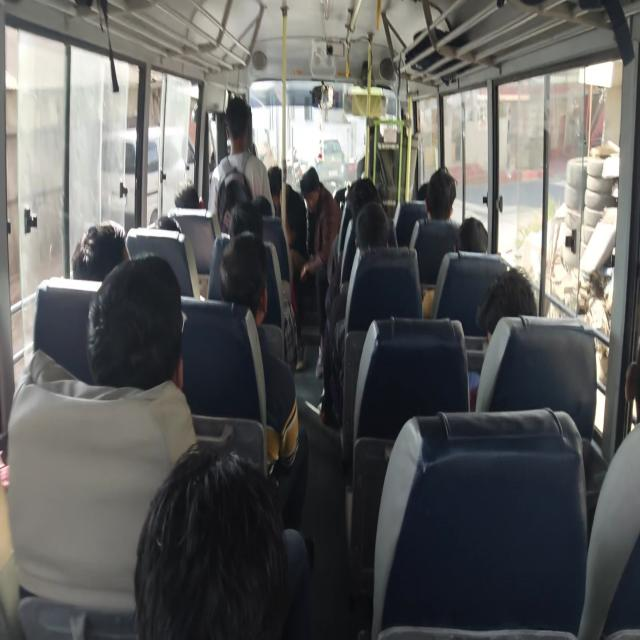person: (134, 465, 325, 640), (88, 282, 170, 386), (588, 336, 640, 464), (223, 238, 285, 313), (75, 222, 131, 279), (483, 281, 531, 346), (421, 182, 459, 241), (359, 197, 396, 257), (455, 214, 498, 265), (220, 101, 255, 161), (233, 200, 264, 253), (301, 167, 323, 226), (153, 217, 179, 256), (251, 192, 279, 228), (411, 170, 436, 205), (179, 186, 200, 223), (350, 182, 383, 204), (267, 170, 290, 198)
